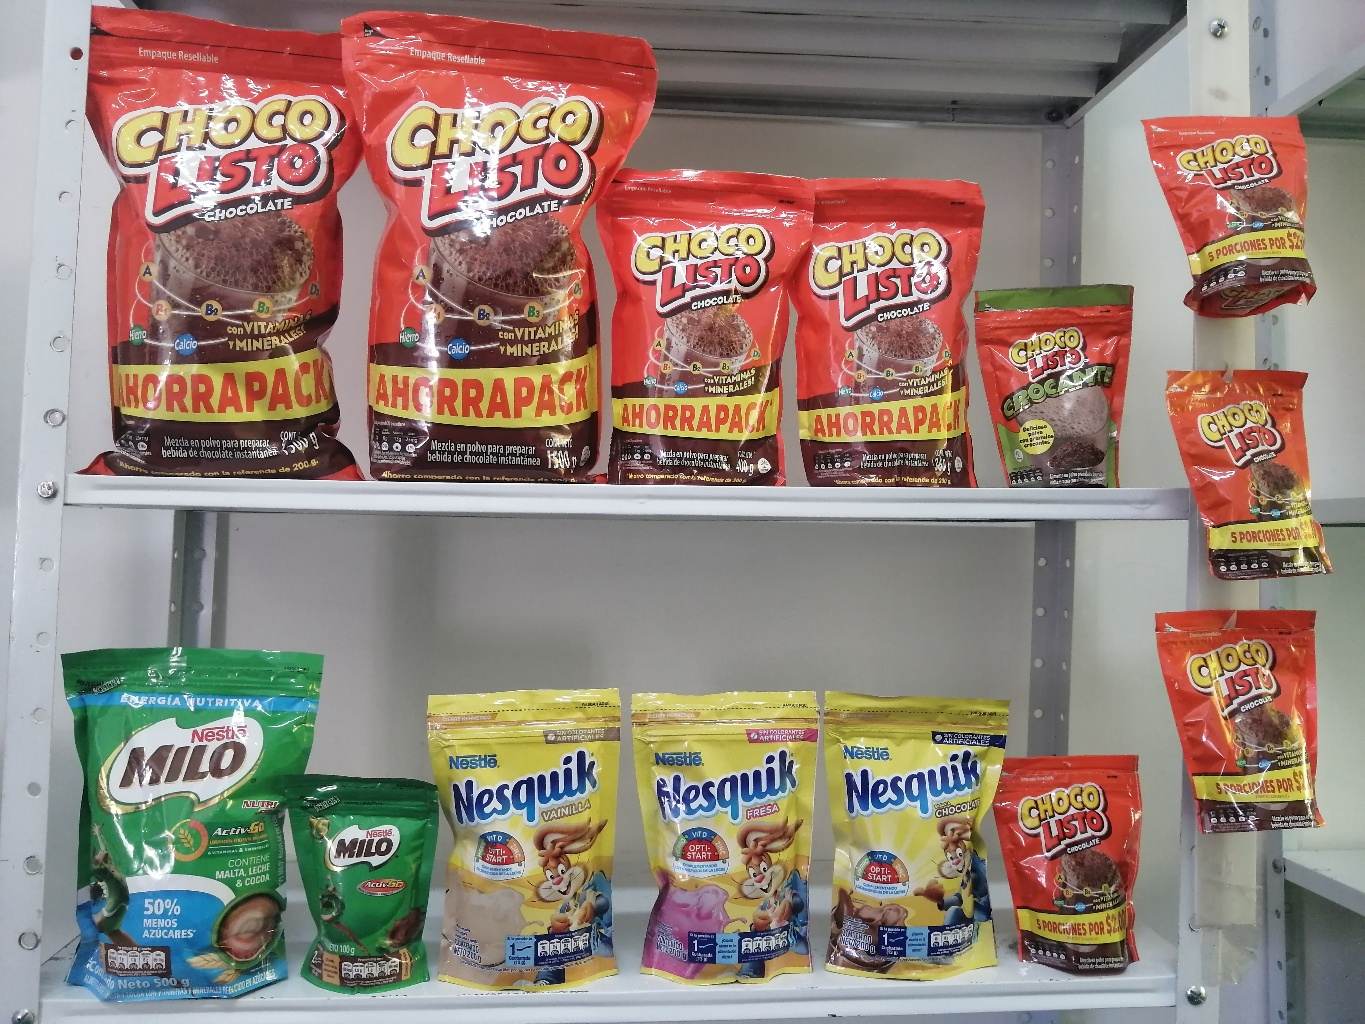COL0170102DYP10000: (979, 270, 1139, 492)
COL0170103DYP1,500: (340, 5, 657, 483)
COL0170103DYP10000: (1134, 95, 1332, 340)
COL0170103DYP36000: (801, 166, 980, 488)
COL0170103DYP40000: (606, 161, 800, 488)
COL0170203DYP10000: (297, 759, 433, 994)
COL0170205DYP50000: (45, 628, 312, 1005)
COL0170303DYP20000: (819, 677, 1008, 979)
COL0170305DYP20000: (621, 677, 810, 984)
COL0170306DYP20000: (421, 673, 627, 989)
